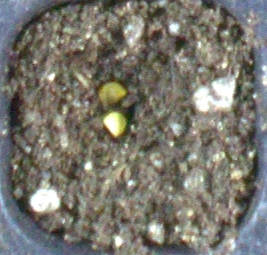chilli seed: (98, 81, 127, 102), (103, 112, 126, 137)
